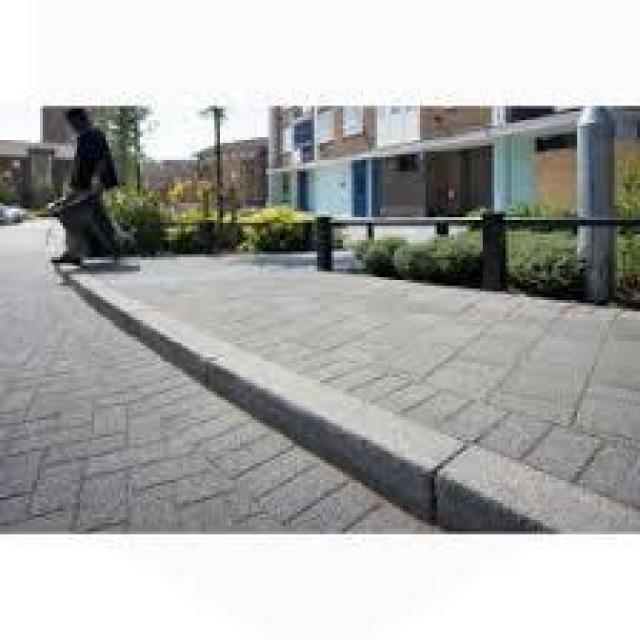curb: (376, 445, 640, 532), (210, 388, 455, 476), (158, 328, 291, 388), (94, 286, 155, 347)
